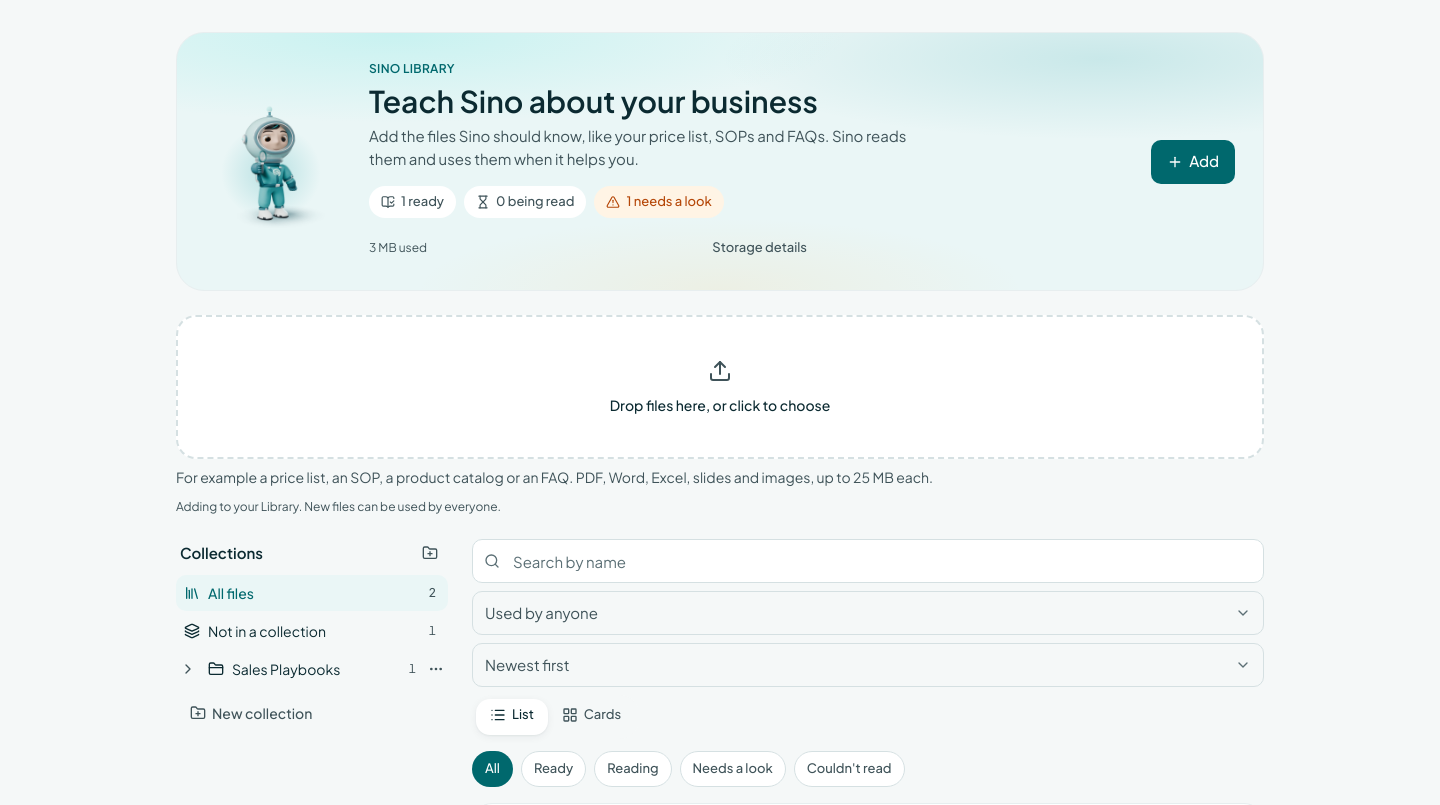
Test: collections › collapses and expands a collection with children
Expected: the link "Pricing" is not shown
Click the button named "Expand Sales Playbooks" at (188,669), box [176,657,200,681]
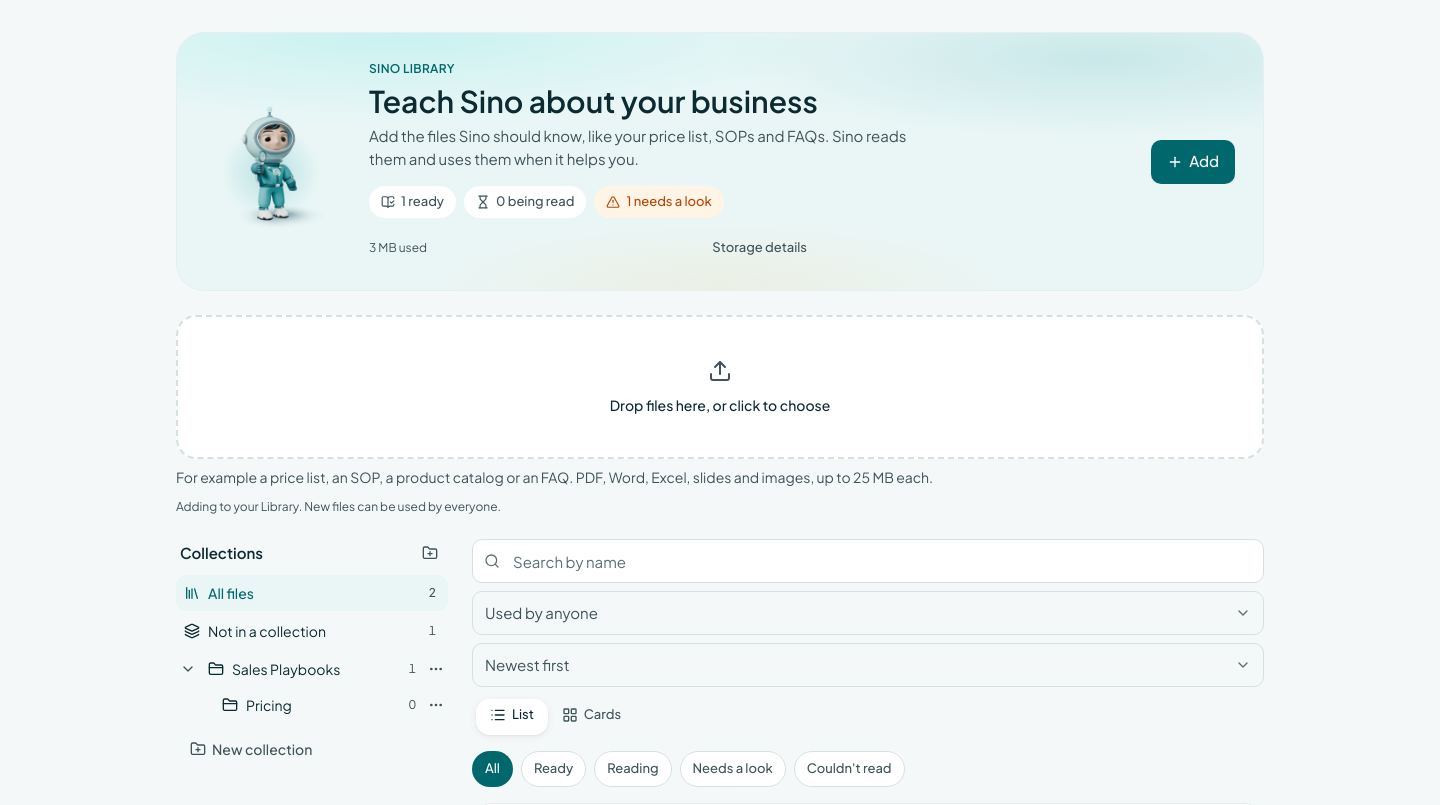
Result: the link "Pricing 0" is shown at [222,696,416,714]
Click the button named "Collapse Sales Playbooks" at (188,669), box [176,657,200,681]
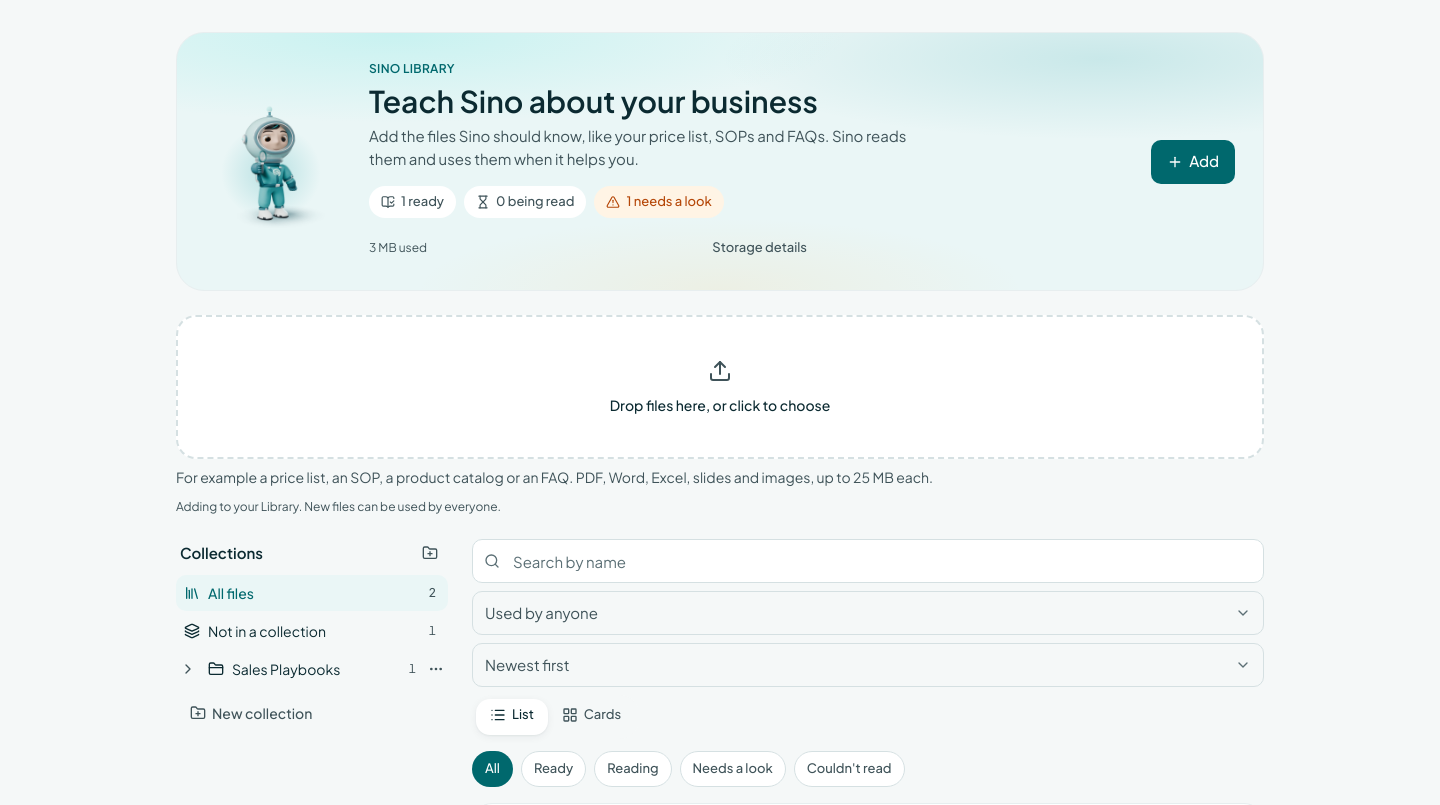
Result: the link "Pricing" is gone
